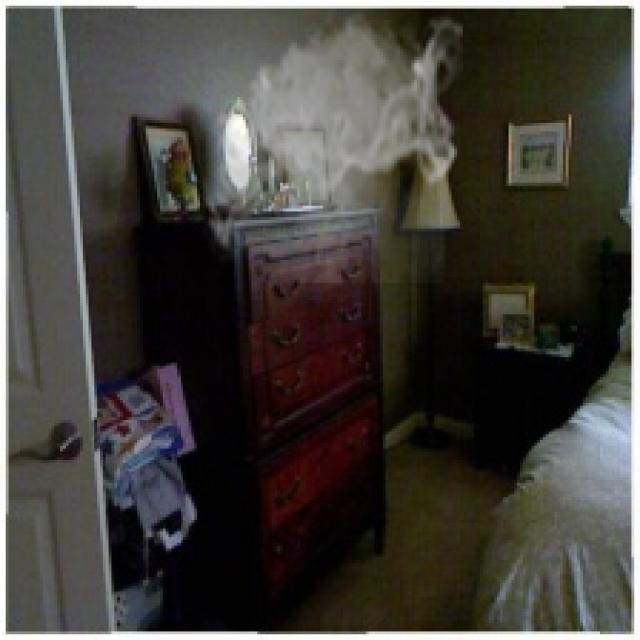Smoke: (200, 8, 463, 283)
